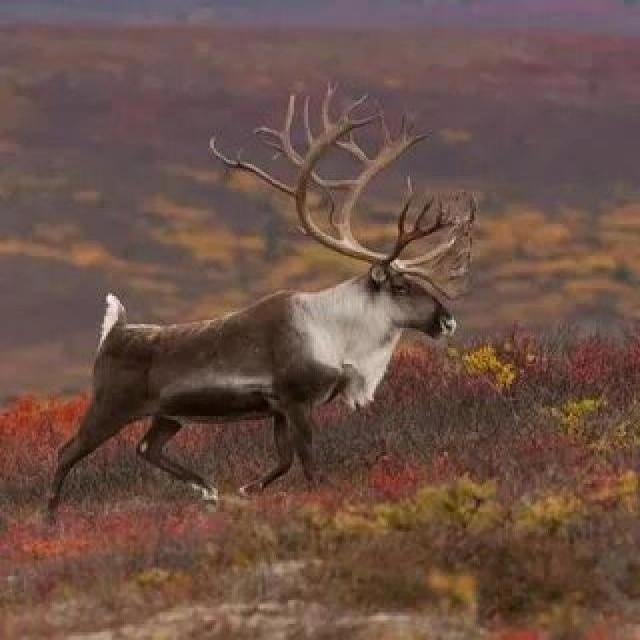deer: (21, 114, 458, 525)
